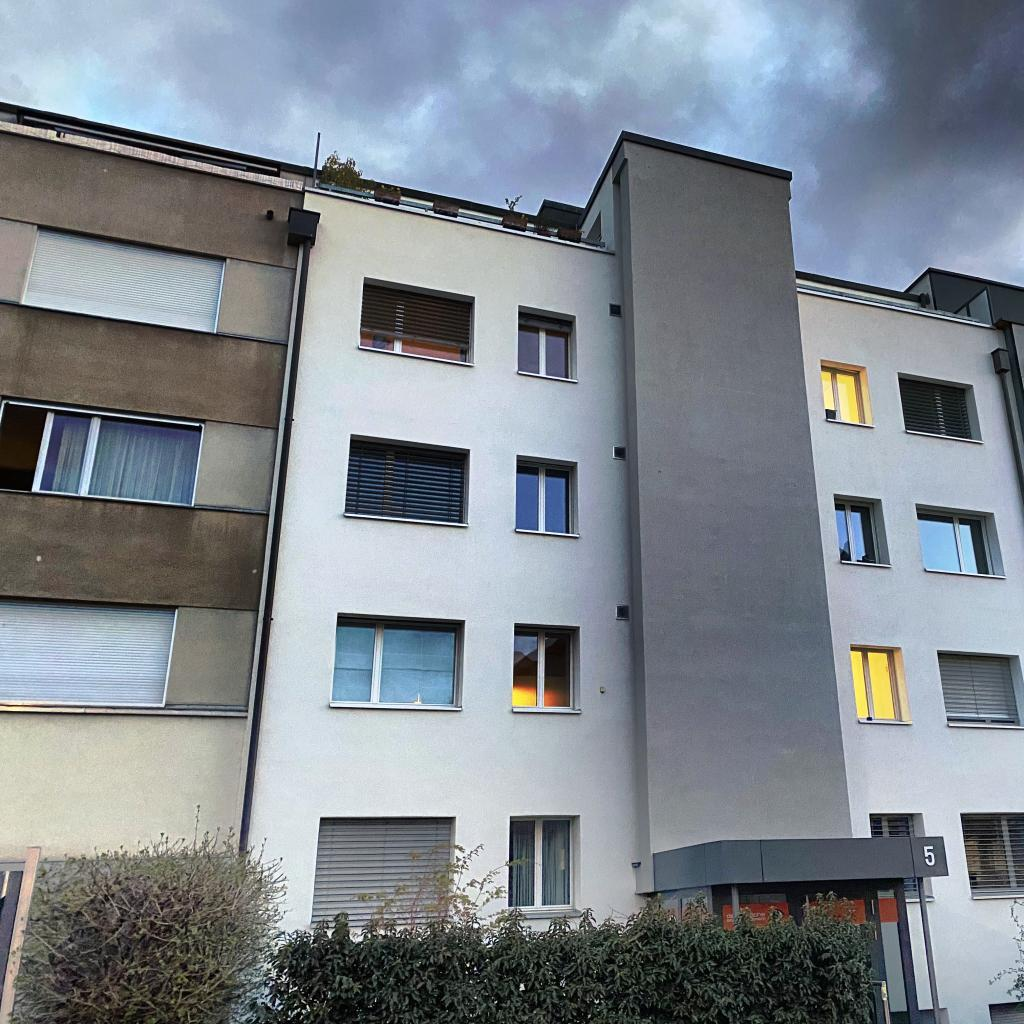balcony-fence: (314, 180, 616, 256)
facade: (0, 100, 1024, 1024)
vegetation: (6, 803, 879, 1024), (987, 899, 1024, 1012), (318, 149, 403, 196), (504, 194, 524, 210)
window: (22, 229, 225, 332), (0, 599, 177, 706), (311, 819, 452, 929), (332, 618, 459, 706), (346, 438, 467, 523), (360, 283, 472, 364), (938, 654, 1021, 726), (509, 818, 574, 908), (513, 627, 574, 709), (917, 510, 994, 574), (961, 814, 1024, 891), (899, 377, 972, 440), (516, 460, 572, 533), (850, 647, 901, 720), (0, 862, 25, 1010), (519, 315, 571, 379), (834, 499, 880, 563), (821, 364, 864, 423), (870, 815, 914, 837), (904, 878, 918, 892)
